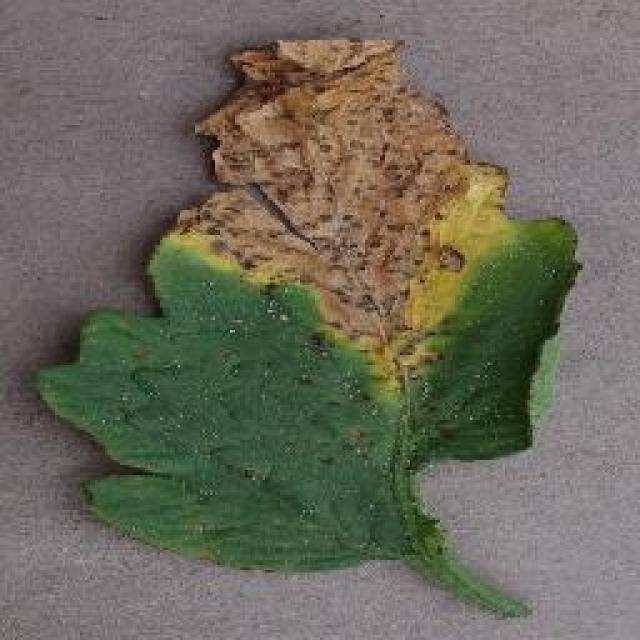Tomato bacterial spot leaf: (26, 31, 588, 578)
